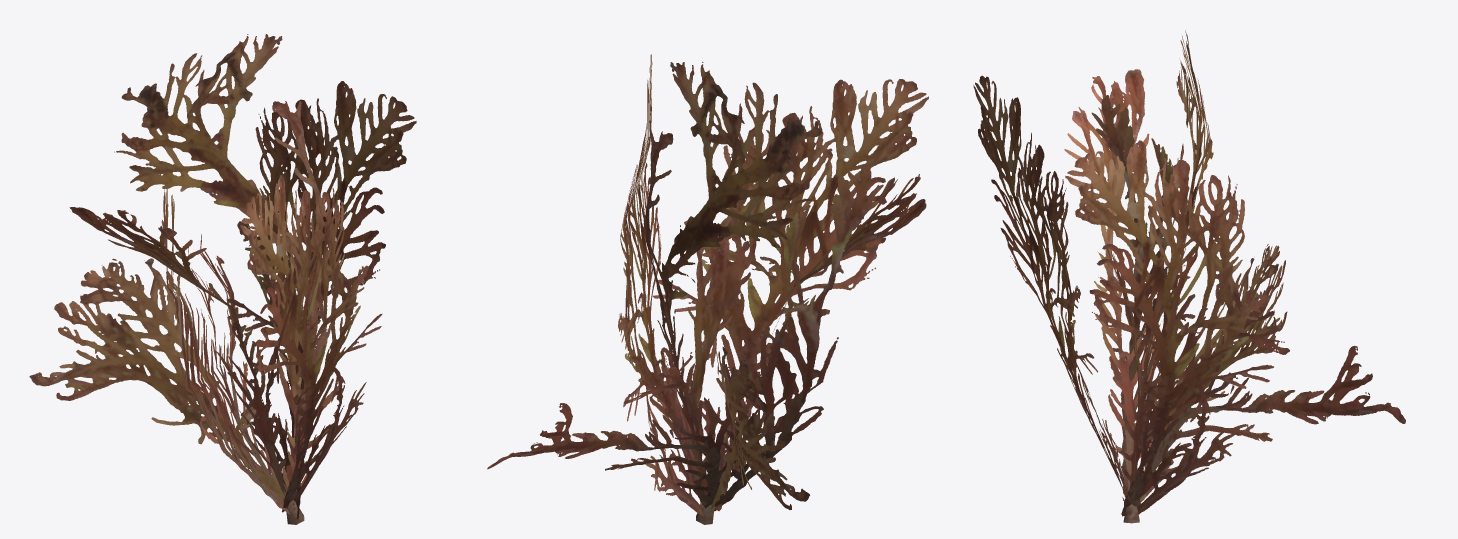
File: seaweed_1_1.FBX
3 renders of one model, left to right at view 1: azimuth 30°, elevation 25°; view 2: azimuth 150°, elevation 25°; view 3: azimuth 270°, elevation 25°, orthographic. The views are drawn at different scales.
Parts seen in each view (by area): view 1: seaweed_1_01; view 2: seaweed_1_01; view 3: seaweed_1_01.
Boxes of the visible parts, x1,y1,x2,y2 form: seaweed_1_01: (29, 34, 416, 524); seaweed_1_01: (487, 54, 928, 524); seaweed_1_01: (973, 30, 1405, 523).
Bounding box in the file's own units: 23.08 × 33.49 × 30.64.
Materials: 1 (1 with a texture image).
